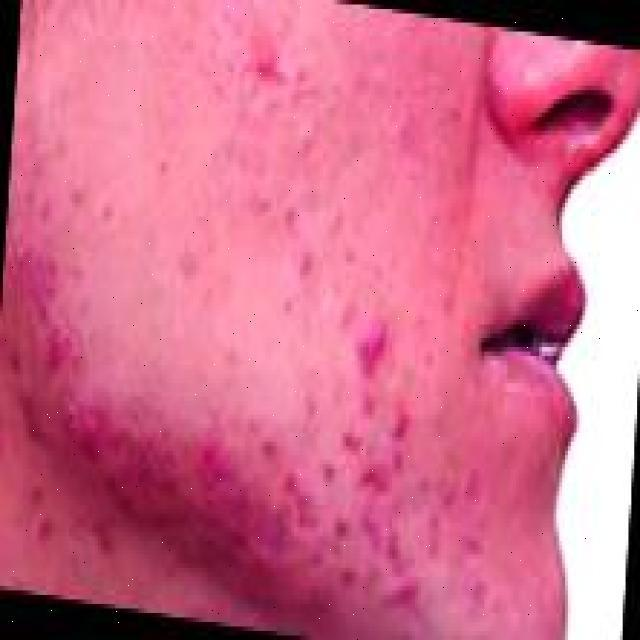Acne: (26, 54, 480, 624)
